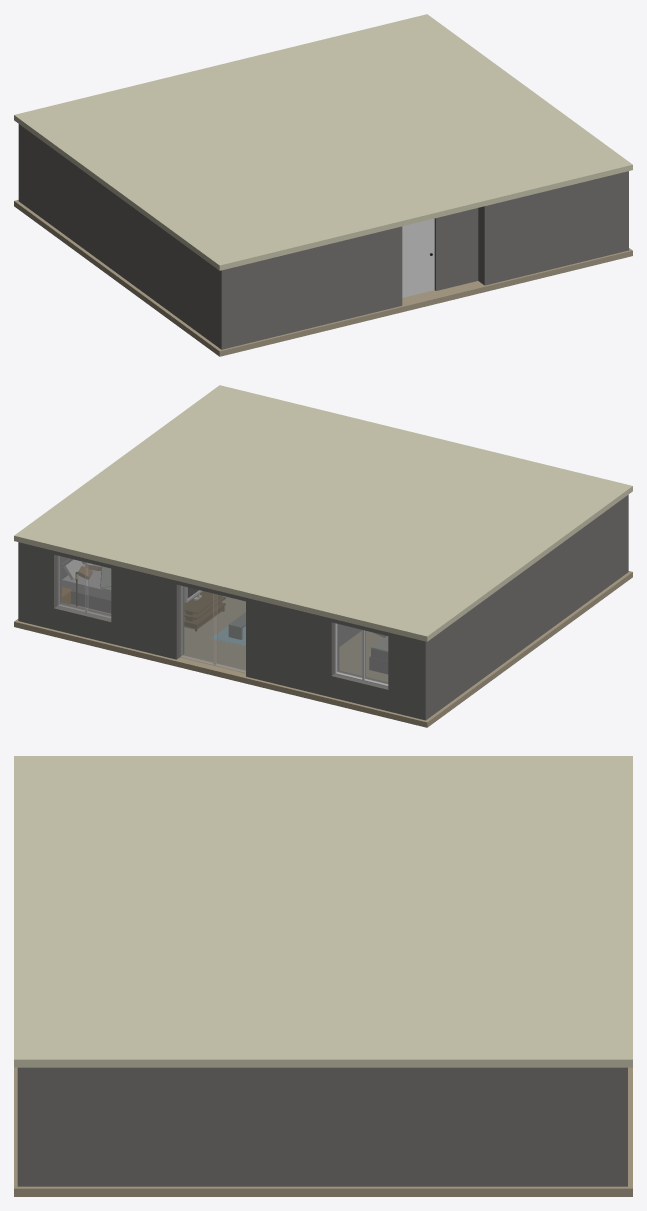
File: House.fbx
3 views of the same model, one above another, from view 1: azimuth 30°, elevation 25°; view 2: azimuth 150°, elevation 25°; view 3: azimuth 270°, elevation 25° (orthographic). The views are drawn at different scales.
Parts seen in each view (by area): view 1: Plane.001, Plane.002, Plane, Cylinder.003; view 2: Plane.001, Plane.002, Plane, Cube.006, Cube, Cube.001, Cube.015, Cube.004, Cube.013; view 3: Plane.001, Plane.002, Plane.
Boxes of the visible parts, x1,y1,x2,y2 form: Plane.001: [14, 14, 632, 270]; Plane.002: [18, 124, 628, 349]; Plane: [14, 200, 632, 356]; Cylinder.003: [402, 218, 434, 297]; Plane.001: [14, 385, 632, 641]; Plane.002: [18, 495, 628, 720]; Plane: [14, 571, 632, 727]; Cube.006: [180, 585, 245, 673]; Cube: [334, 623, 388, 686]; Cube.001: [57, 556, 111, 618]; Cube.015: [62, 558, 110, 613]; Cube.004: [184, 591, 225, 631]; Cube.013: [369, 636, 387, 673]; Plane.001: [14, 756, 632, 1067]; Plane.002: [17, 1067, 627, 1186]; Plane: [14, 1067, 632, 1196].
Bounding box in the file's own units: 805 × 170 × 694.
